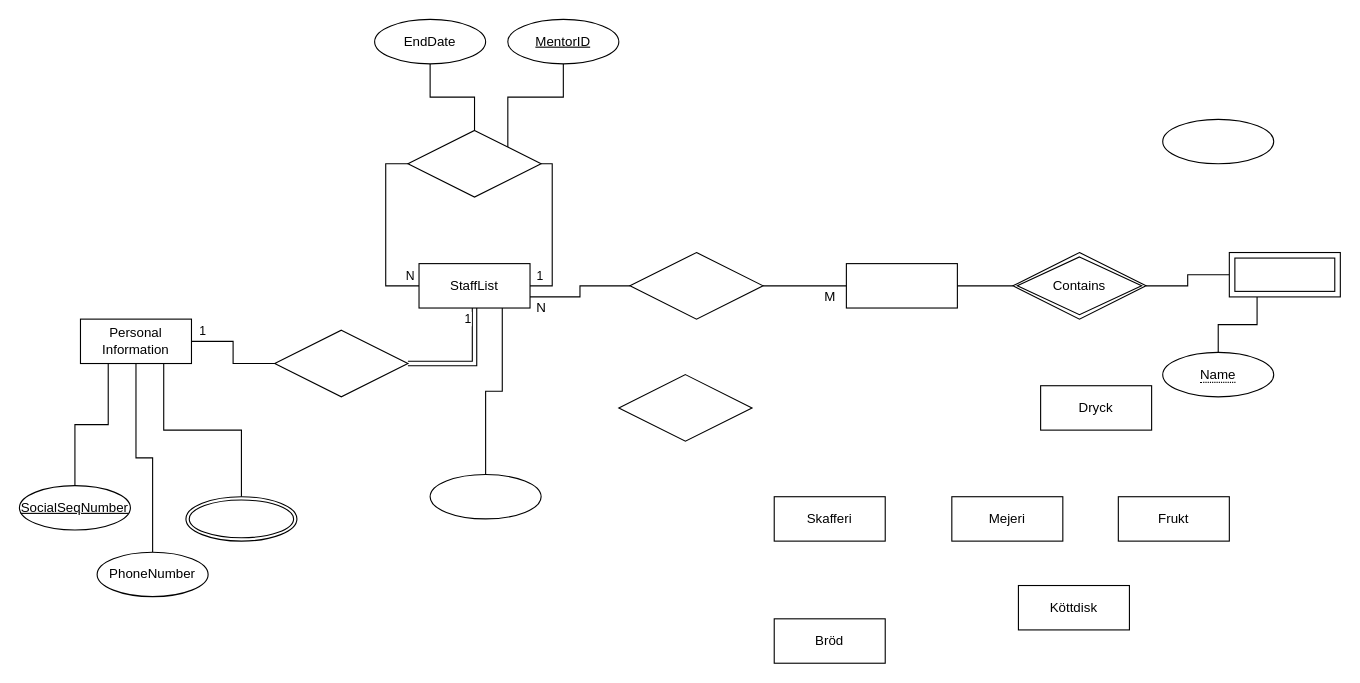
Image size: 1360x683. Some labels were removed from this diagram. Here are the shapes that lost their labels. From the top down, the centre of each, then its label:
the point at 474,163: Mentor
the point at 696,285: Inventering
the point at 901,285: Departments
the point at 1284,274: Products
the point at 341,363: Works
the point at 485,496: StaffID
the point at 241,518: Email
